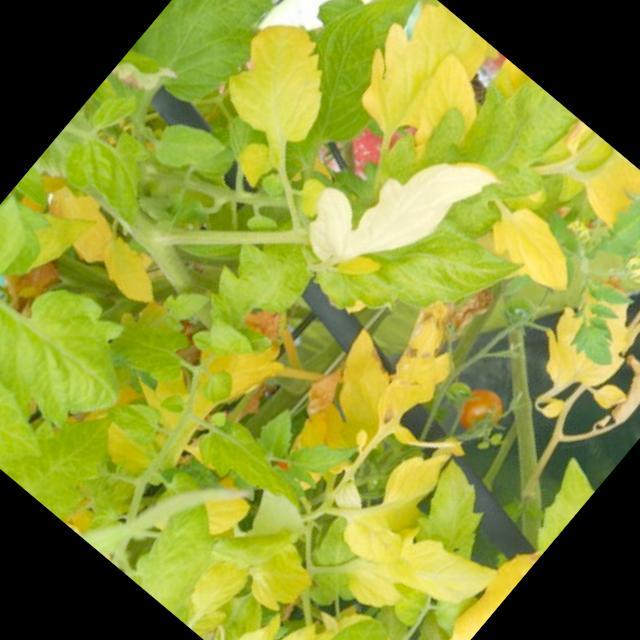Tomato yellow virus leaf: (296, 268, 494, 472), (0, 238, 168, 457), (196, 0, 371, 169), (474, 185, 598, 304), (259, 575, 453, 640)
